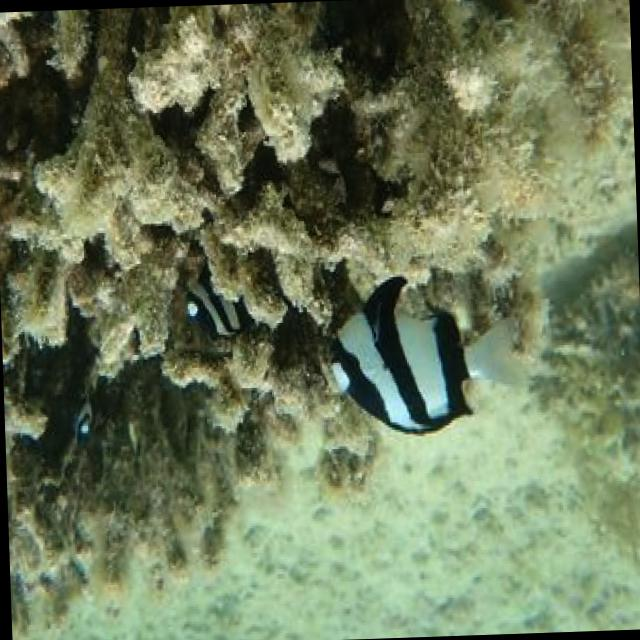ThreeStripedDamselfish: (318, 273, 525, 432)
